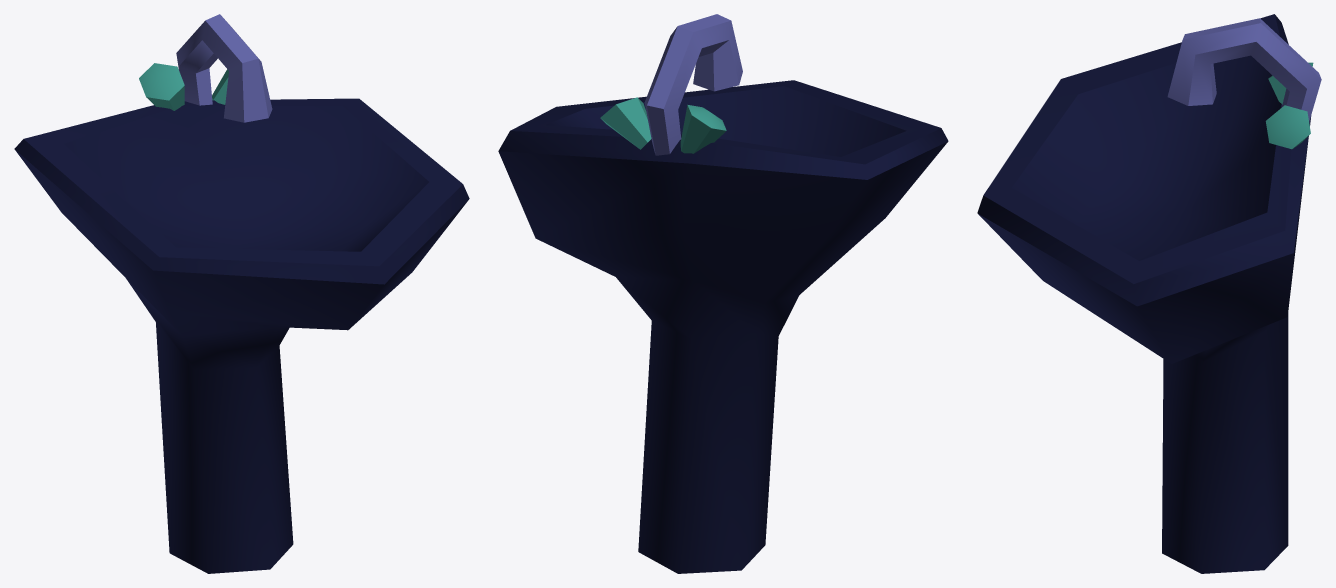
File: MDL_GrifoAgua.FBX
The picture shows the model from 3 angles, left to right: view 1: azimuth 30°, elevation 25°; view 2: azimuth 150°, elevation 25°; view 3: azimuth 270°, elevation 25°; orthographic projection. The views are drawn at different scales.
Parts seen in each view (by area): view 1: Line009; view 2: Line009; view 3: Line009.
Part boxes in pixels (x1=…): Line009: x1=14, y1=14, x2=469, y2=573; Line009: x1=498, y1=14, x2=948, y2=573; Line009: x1=977, y1=14, x2=1321, y2=573.
Size of the model in its own units: 38.72 by 50.17 by 29.54.
